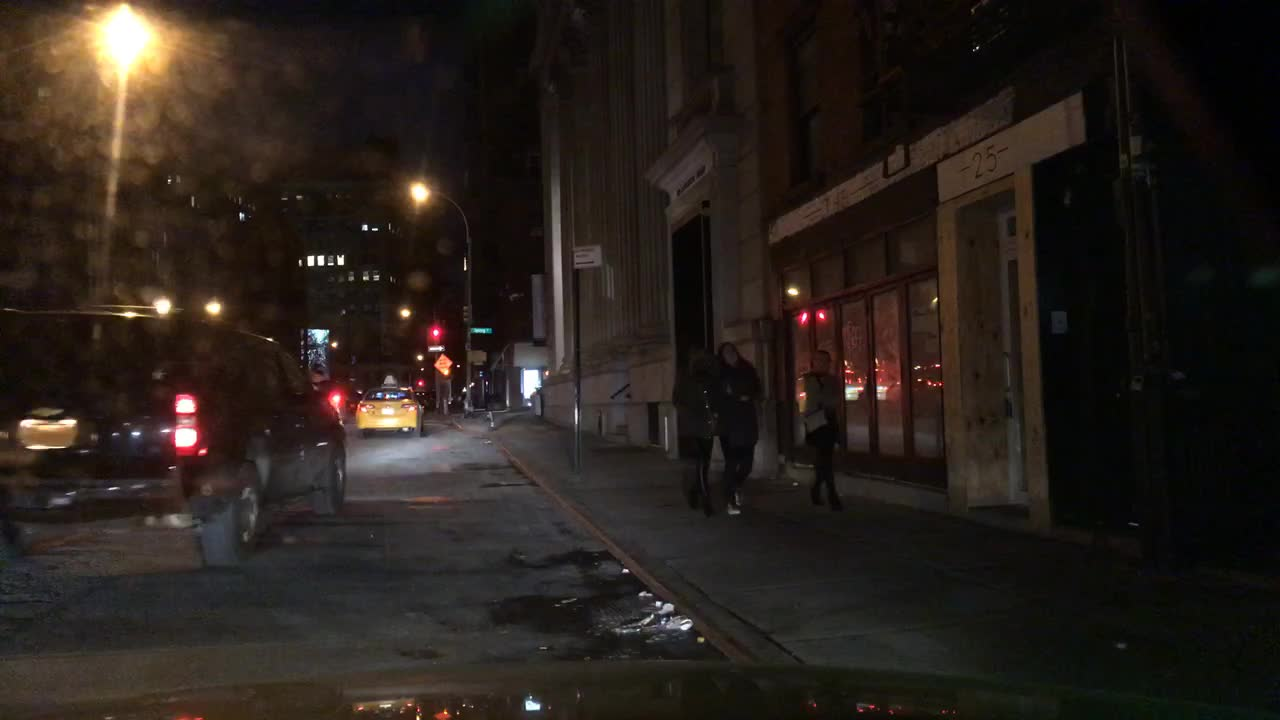car: (1, 305, 348, 570), (351, 373, 428, 439), (327, 389, 344, 409), (345, 391, 360, 412)
person: (668, 345, 737, 517), (712, 338, 767, 517), (800, 345, 846, 512)
traffic light: (430, 326, 440, 341)
traffic sign: (570, 243, 605, 269), (432, 355, 453, 376), (470, 327, 495, 333), (428, 345, 444, 352)
